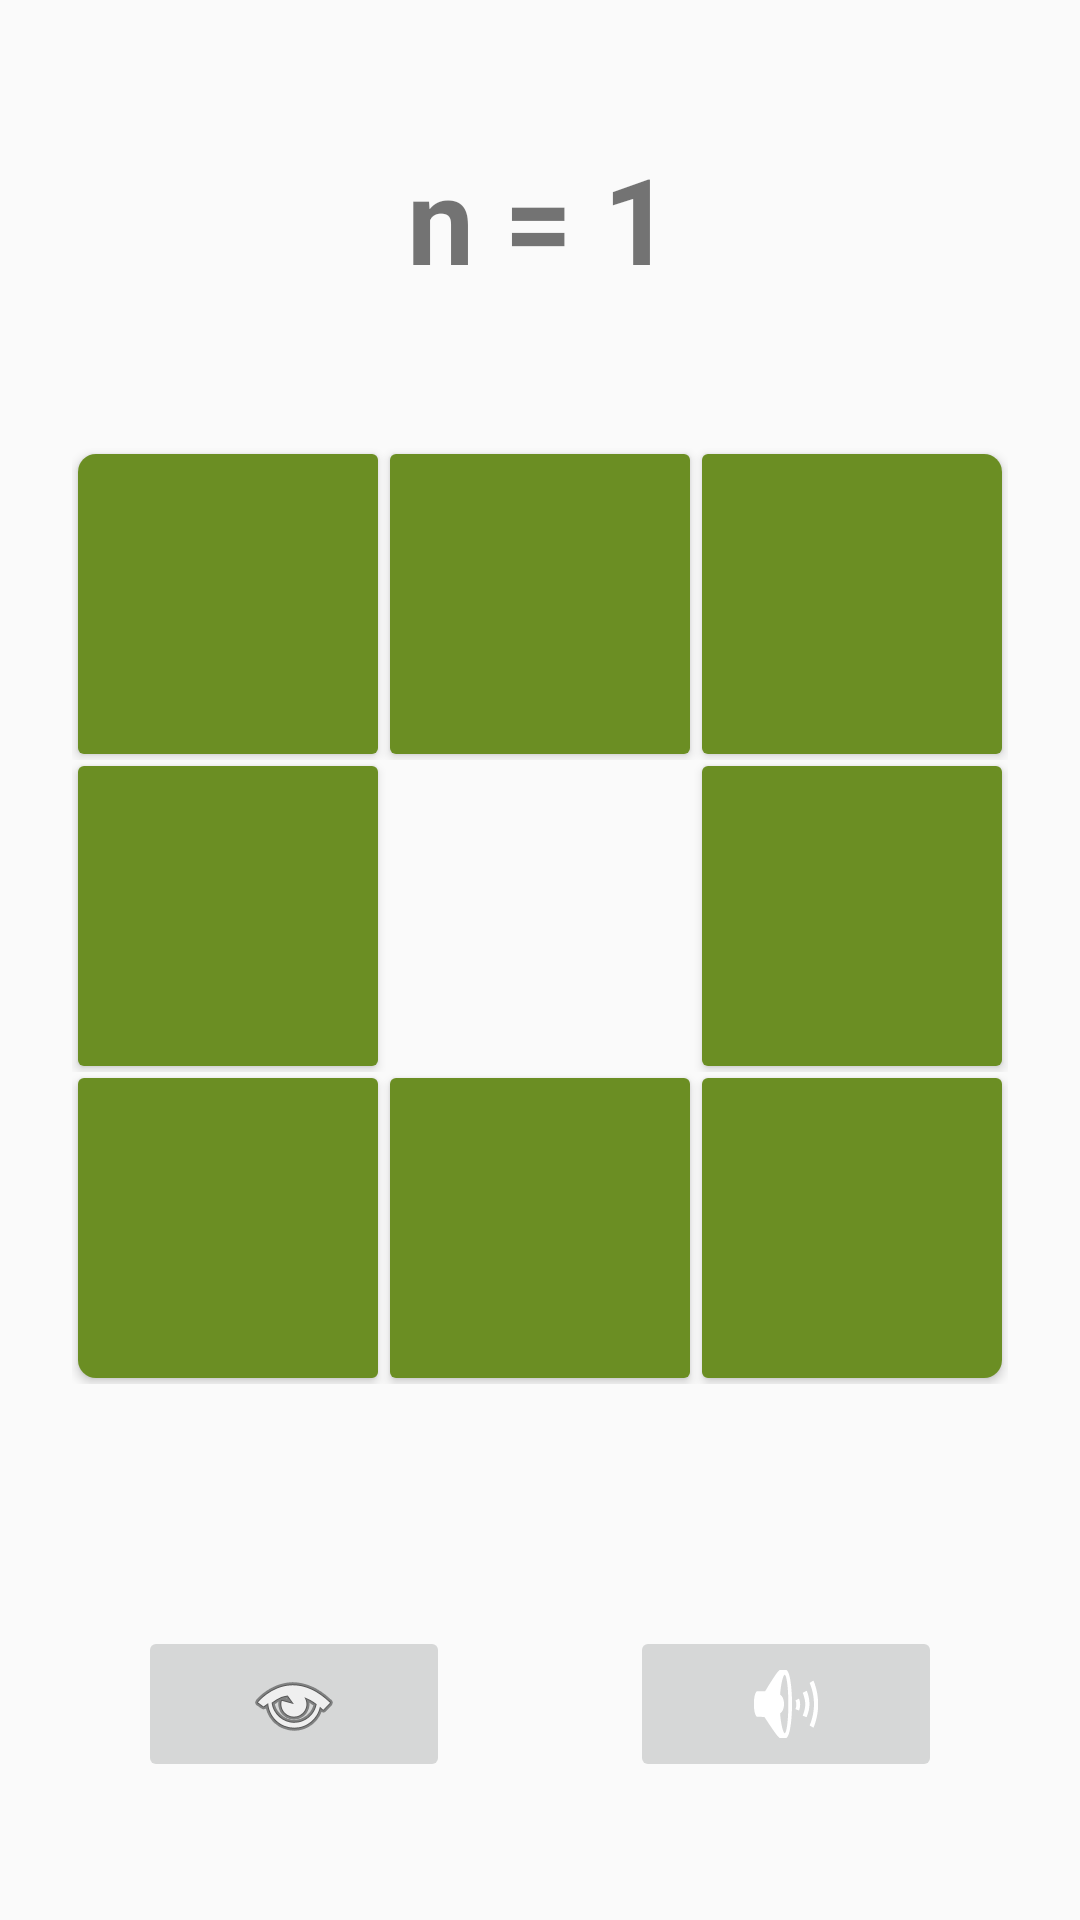

Icons on this 1080x1920 Android screen, each with its box as (x1, y1, x2, y2):
lock silent mode off: (642, 1644, 930, 1764)
view: (150, 1644, 438, 1764)
